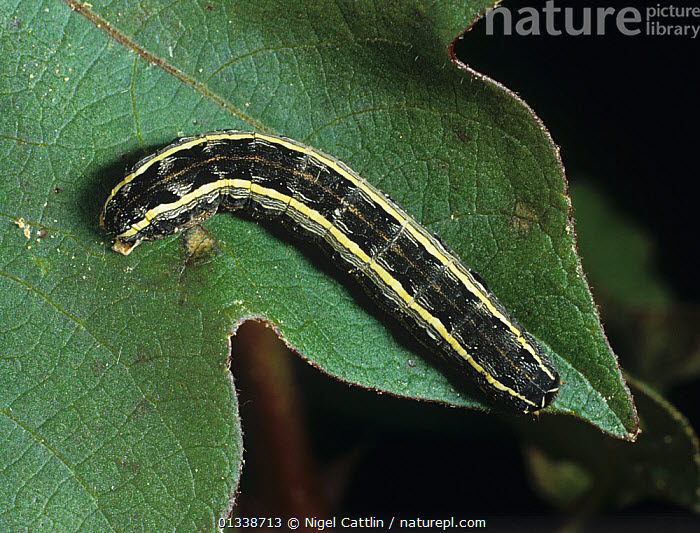Armyworm: (93, 121, 566, 430)
